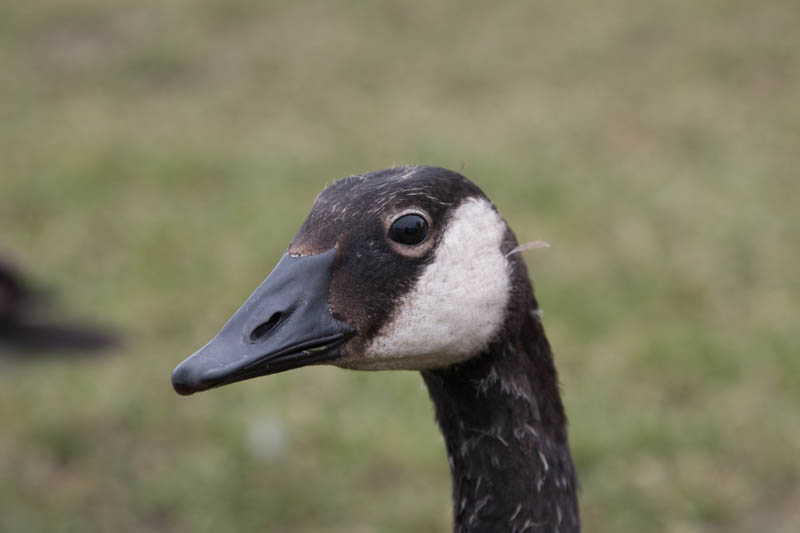goose-head: (170, 165, 537, 397)
